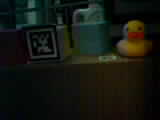duck: (117, 19, 147, 55)
